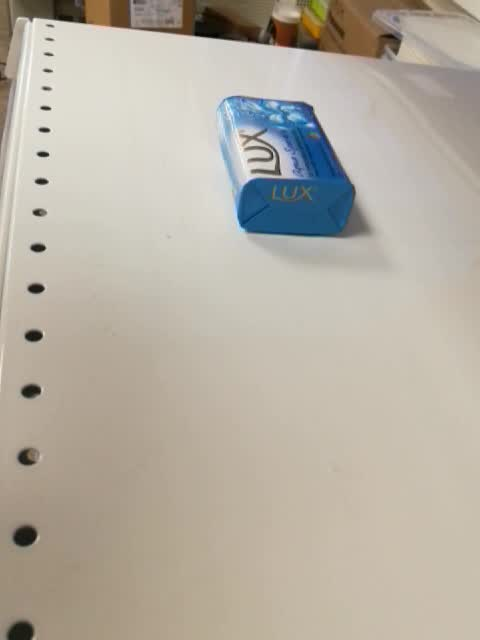soap: (214, 92, 359, 239)
